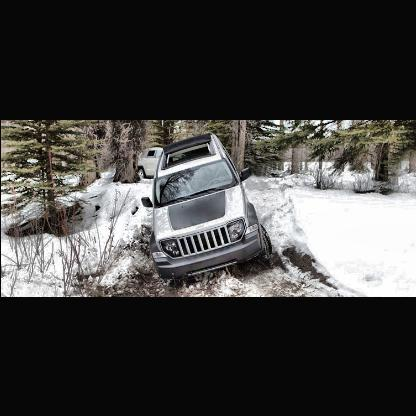Jeep Liberty SUV 2012: (140, 130, 274, 284)
